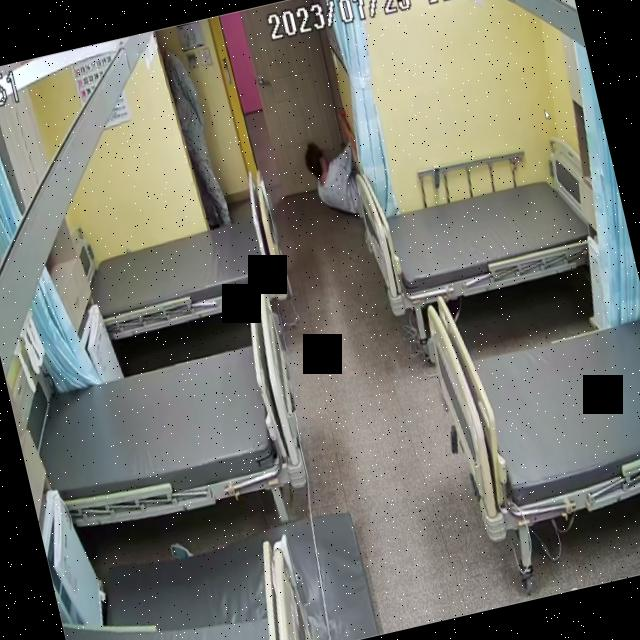bed: (418, 252, 640, 540), (21, 327, 312, 535), (356, 149, 611, 318), (82, 202, 288, 340)
fall: (294, 134, 372, 232)
patient: (157, 22, 236, 229), (294, 130, 372, 232)
stand: (156, 22, 236, 228)
